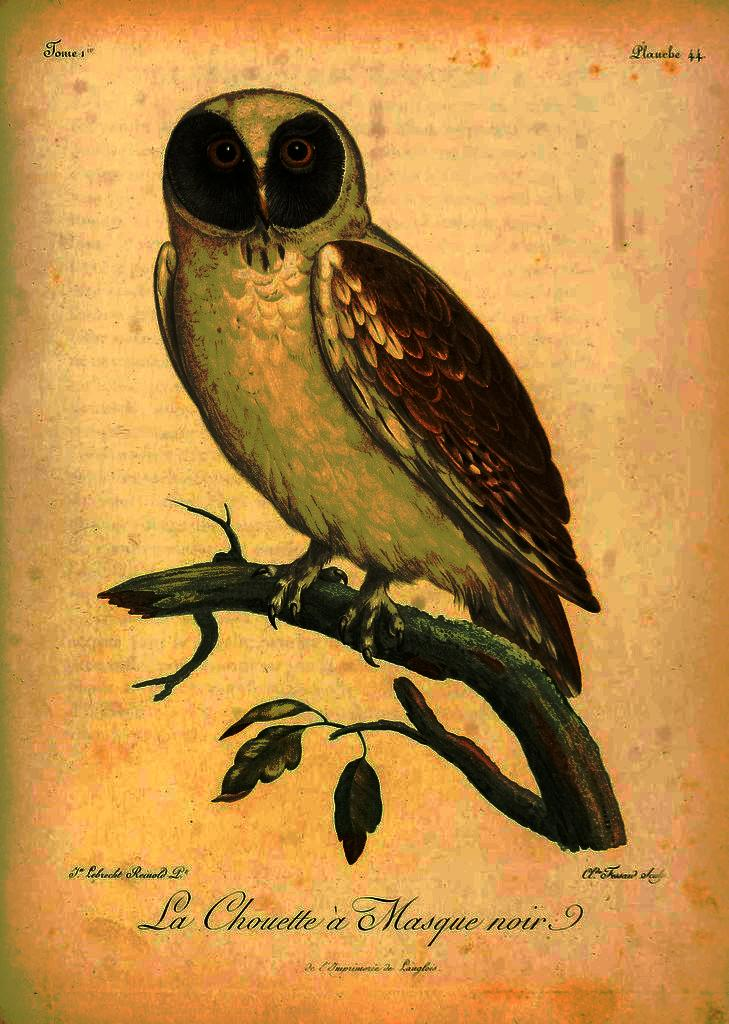Owl: (153, 85, 604, 701)
